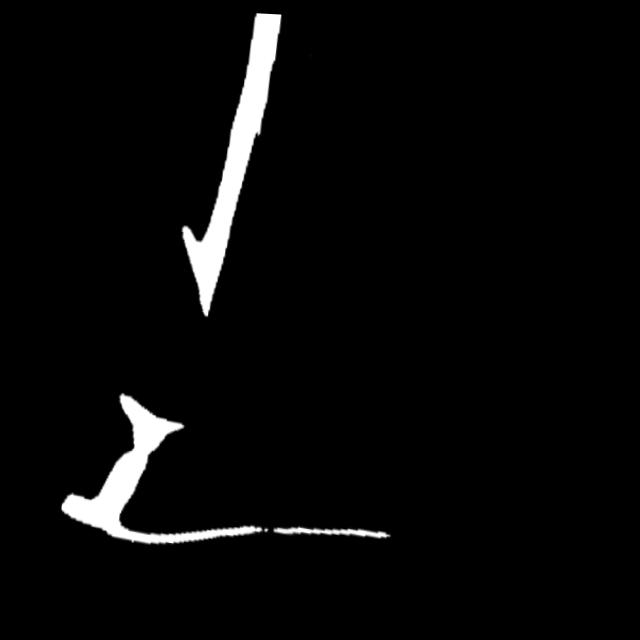inf: (247, 515, 282, 540)
